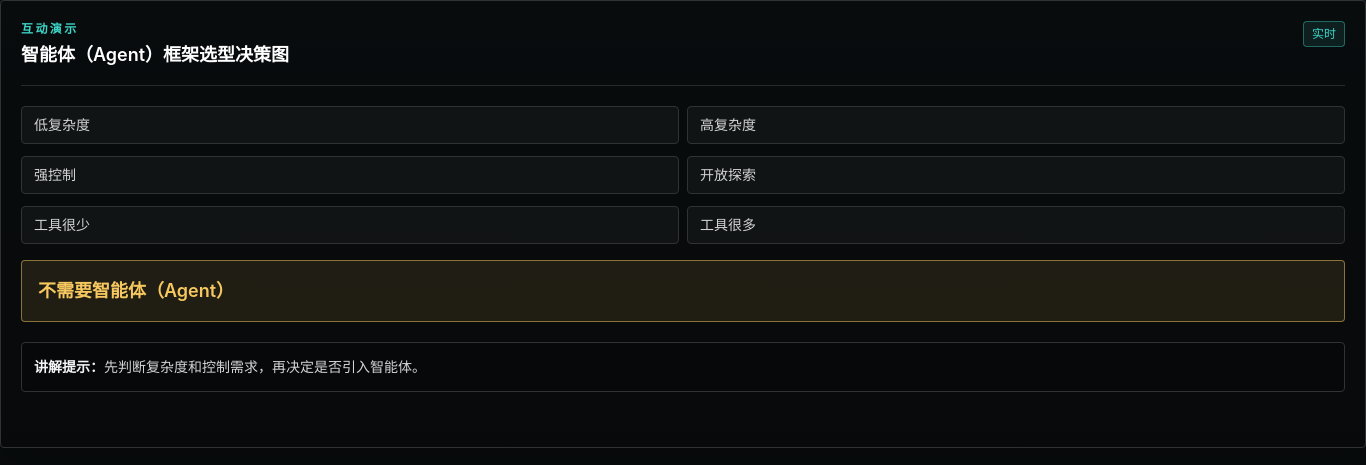
Test: DemoRenderer › lets the decision matrix update its recommendation
Click the button "高复杂度".
click(728, 124)  # box top-left (687, 106), bottom-right (1345, 144)
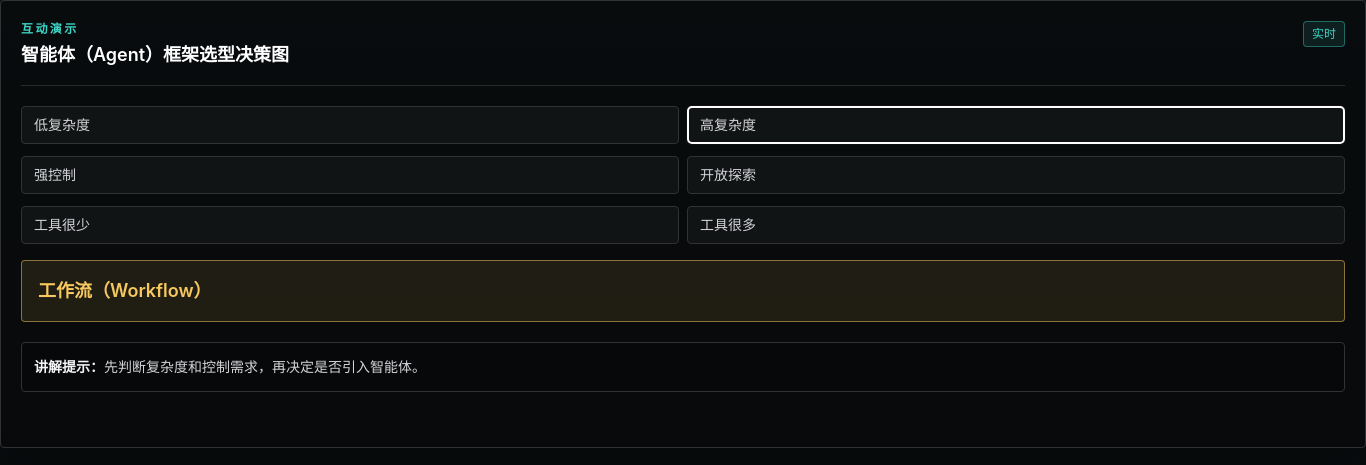
Click the button "开放探索".
click(728, 174)  # box top-left (687, 156), bottom-right (1345, 194)
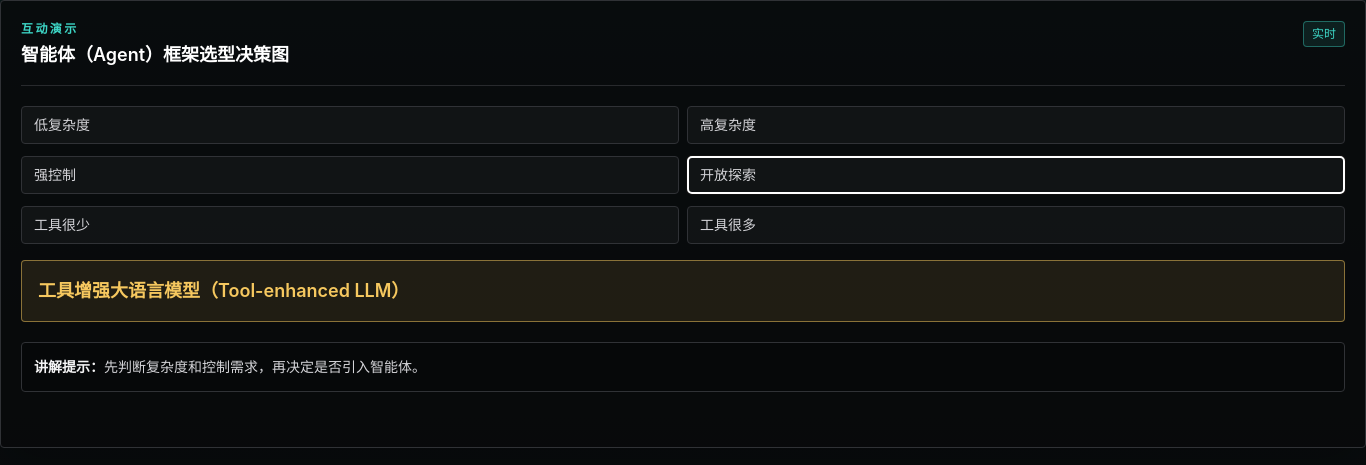
Click the button "工具很多".
click(728, 224)  # box top-left (687, 206), bottom-right (1345, 244)
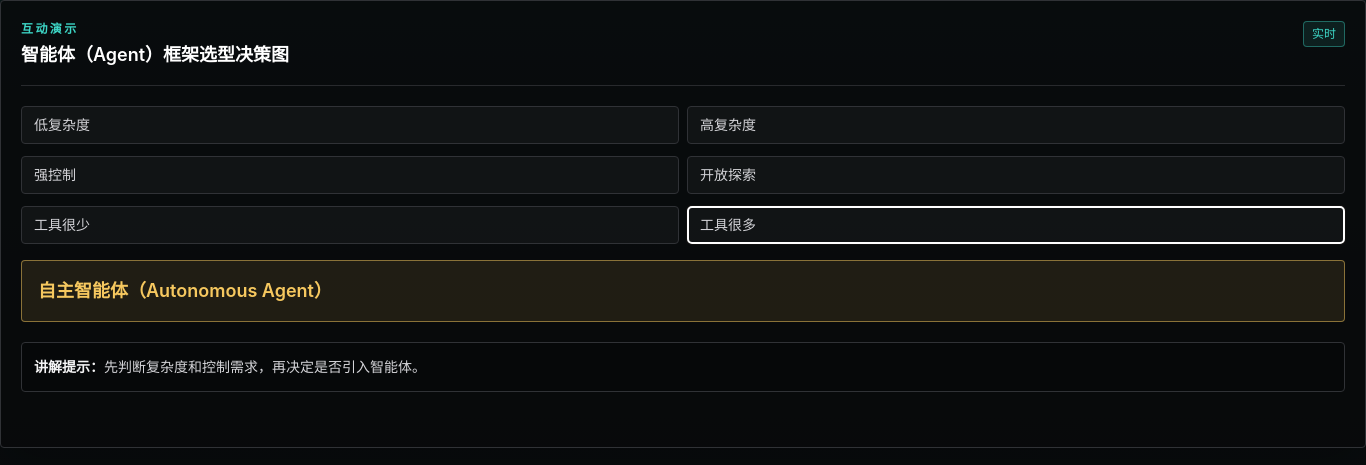
Now the text "自主智能体（Autonomous Agent）" is shown, box top-left (21, 260), bottom-right (1345, 322)
